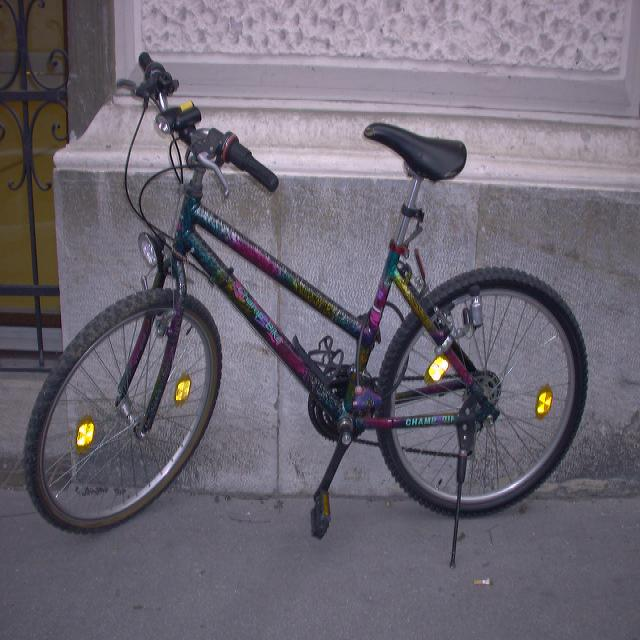bicycle: (22, 51, 589, 552)
